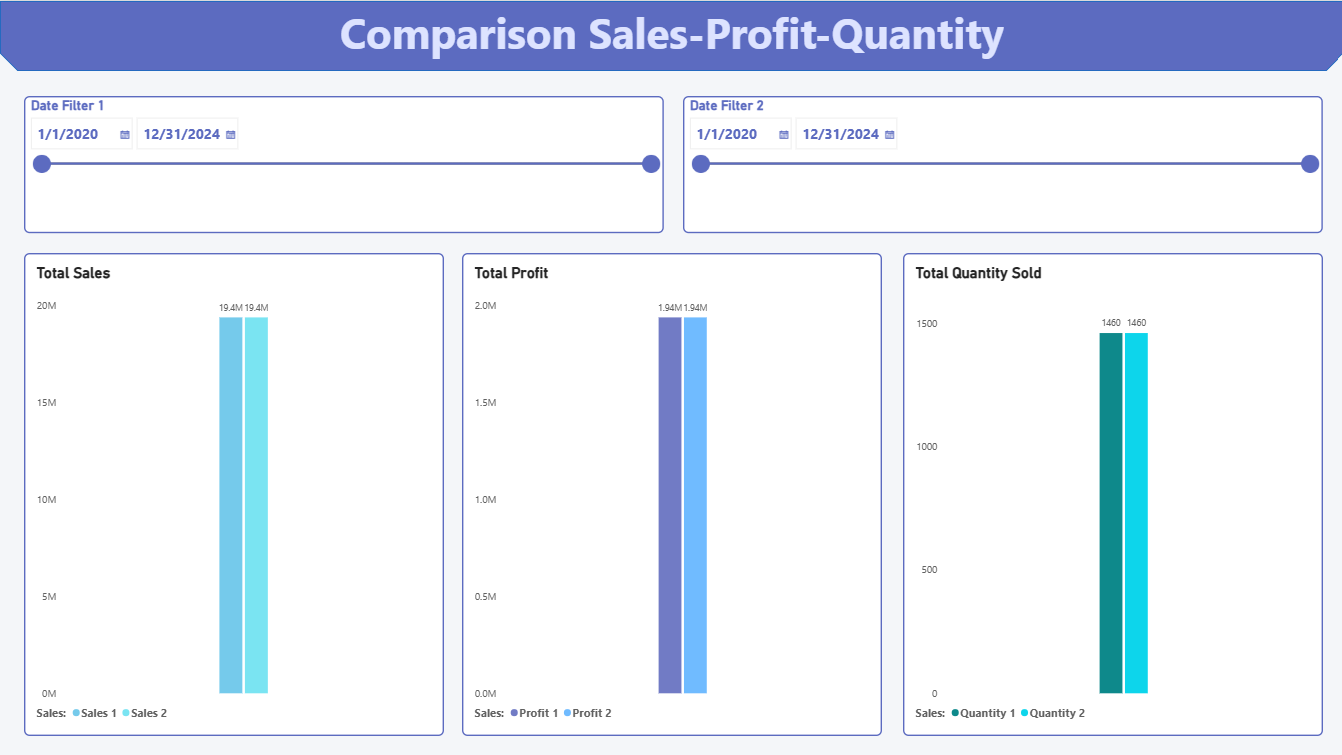

Layout of this report page (visuals, bound fields, positions):
{"tool":"powerbi","page":{"name":"Comparison Sales-Profit-Quantity","canvas":[1920,1080],"ordinal":2},"visuals":[{"type":"shape","box":[0,0,1920,100],"z":0},{"type":"clusteredColumnChart","title":"Total Sales","fields":{"Y":["Sum(Fact_Table.Net_Sales)","Date_Table1.Sum_Of_Net_Sales"]},"box":[34,360,600,690],"z":1000},{"type":"slicer","fields":{"Values":["Date_Table1.Date"]},"box":[34,136,914,196],"z":2000},{"type":"slicer","fields":{"Values":["Date_Table2.Date"]},"box":[976,136,914,196],"z":3000},{"type":"clusteredColumnChart","title":"Total Profit","fields":{"Y":["Sum(Fact_Table.Profit)","Measures Table.Total_Profit"]},"box":[660,360,600,690],"z":4000},{"type":"clusteredColumnChart","title":"Total Quantity Sold","fields":{"Y":["Sum(Fact_Table.Units Sold)","Measures Table.Quantity_Sold"]},"box":[1290,360,600,690],"z":5000}]}

Visuals, with their boxes in screenshot pixels (x1, y1, x2, y2), scaled from the page's 1920x1080 canvas onto the 1342x755 screenshot:
shape: [x1=0, y1=0, x2=1341, y2=70]
"Total Sales" clusteredColumnChart: [x1=24, y1=252, x2=443, y2=734]
slicer - Date_Table1.Date: [x1=24, y1=95, x2=663, y2=232]
slicer - Date_Table2.Date: [x1=682, y1=95, x2=1321, y2=232]
"Total Profit" clusteredColumnChart: [x1=461, y1=252, x2=881, y2=734]
"Total Quantity Sold" clusteredColumnChart: [x1=902, y1=252, x2=1321, y2=734]
